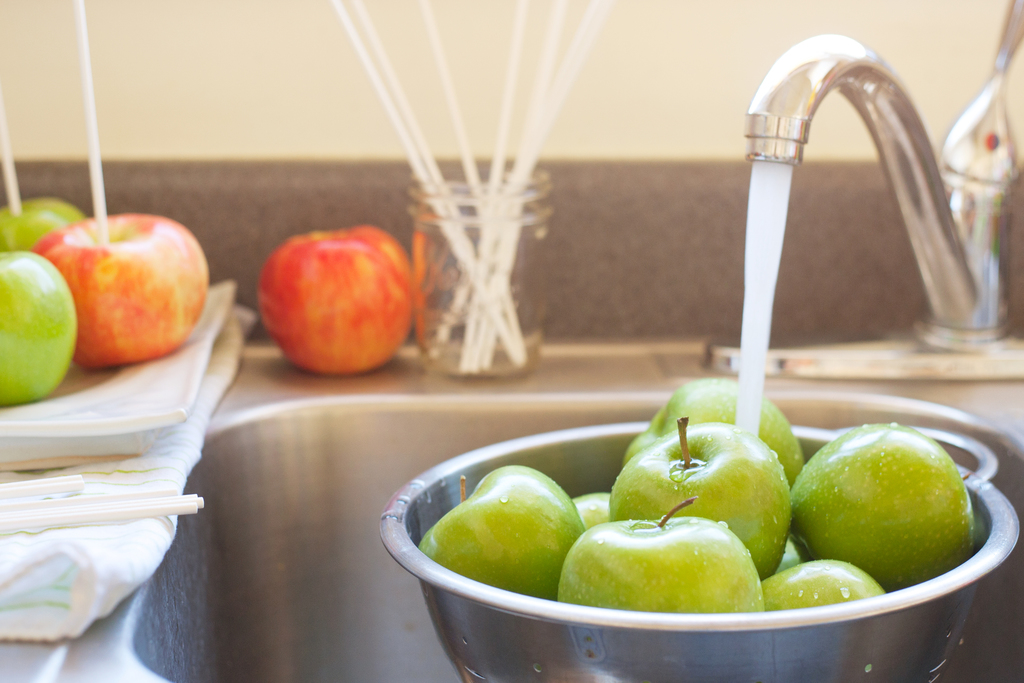Apple: (414, 372, 986, 609), (32, 211, 210, 365), (255, 222, 416, 375), (569, 523, 778, 634), (0, 242, 76, 405), (0, 190, 85, 250)
